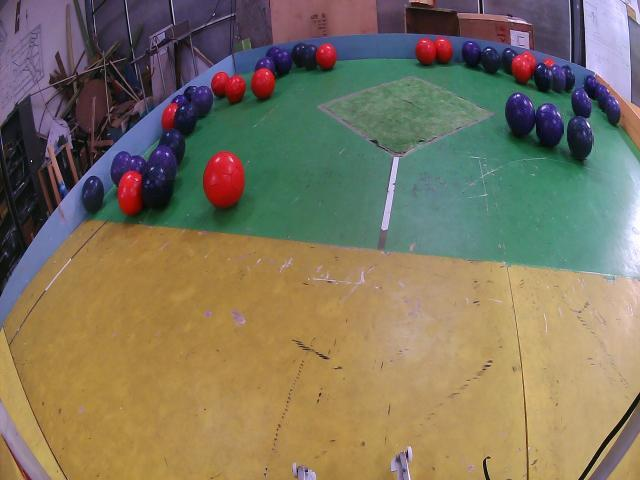jambhalya: (505, 93, 536, 137), (535, 103, 563, 147), (148, 145, 178, 180), (110, 151, 131, 186), (191, 86, 214, 116), (572, 89, 591, 118), (605, 95, 621, 125), (463, 41, 481, 67), (274, 50, 292, 76), (550, 64, 566, 92), (595, 85, 610, 111), (130, 155, 147, 174), (255, 57, 275, 73), (585, 75, 598, 98), (266, 46, 280, 61), (171, 95, 189, 105)
kaalyya: (141, 162, 174, 209), (567, 117, 593, 159), (159, 128, 186, 165), (83, 175, 104, 213), (175, 103, 198, 135), (535, 63, 553, 92), (482, 47, 501, 73), (302, 44, 318, 70), (292, 42, 306, 68), (502, 49, 516, 73), (563, 65, 575, 91), (184, 86, 196, 101)
